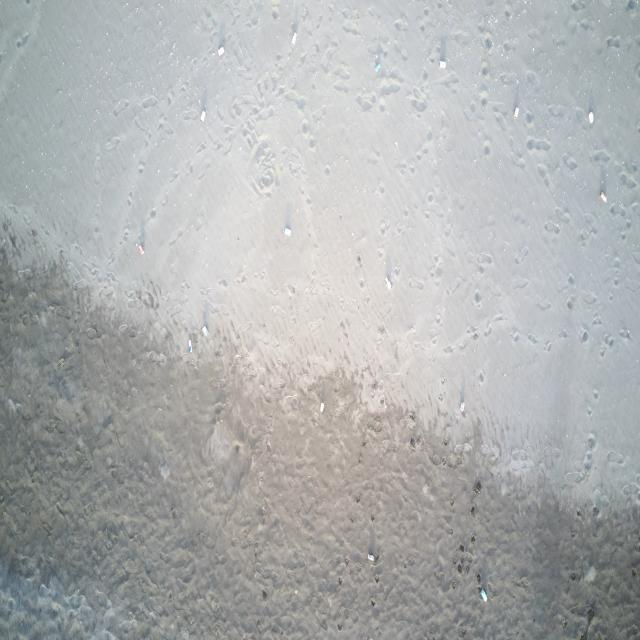Garbage: (373, 55, 380, 71), (480, 587, 487, 602), (136, 241, 143, 255), (283, 224, 291, 236), (384, 275, 391, 288), (200, 108, 206, 120), (216, 45, 223, 55), (600, 190, 606, 201), (291, 31, 296, 44), (187, 339, 192, 352), (459, 400, 464, 413), (512, 105, 517, 118), (367, 552, 375, 560), (439, 59, 446, 68), (587, 111, 592, 123), (201, 324, 206, 335), (320, 402, 323, 412)
